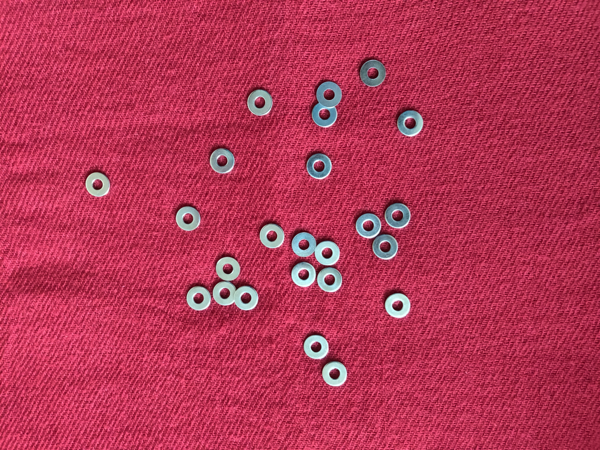circles: (184, 283, 214, 314), (214, 253, 244, 284), (208, 277, 238, 308), (231, 283, 261, 314), (257, 220, 287, 251), (288, 229, 318, 260), (288, 259, 318, 290), (320, 358, 350, 389), (207, 145, 237, 176), (314, 79, 344, 110), (358, 58, 388, 89), (395, 108, 425, 139), (353, 211, 383, 242), (383, 200, 413, 231), (371, 231, 401, 262), (383, 291, 413, 322), (313, 237, 342, 268), (316, 265, 345, 296), (301, 332, 330, 363), (245, 87, 274, 118), (305, 152, 334, 183), (310, 99, 339, 130), (175, 204, 203, 234), (84, 171, 113, 197)
